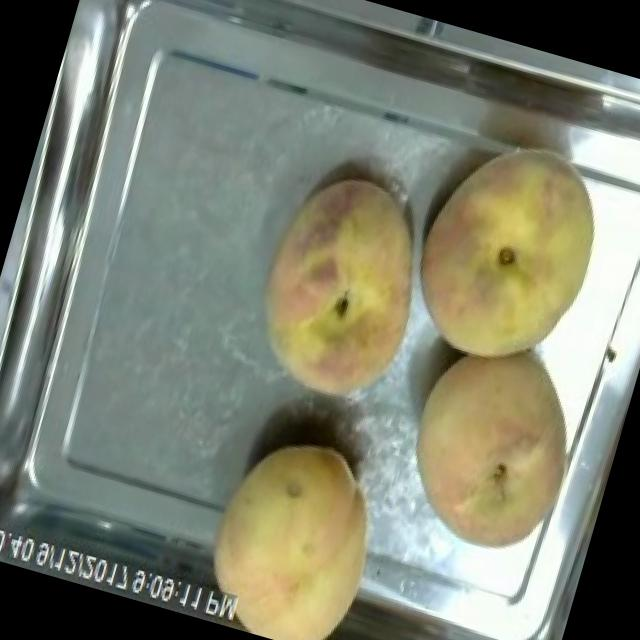Fruit: (388, 118, 630, 390), (227, 154, 454, 422), (378, 322, 611, 575), (182, 415, 406, 640)
